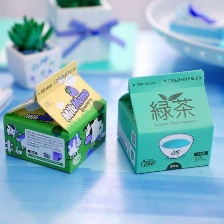carton: (2, 57, 114, 177), (112, 67, 223, 176)
